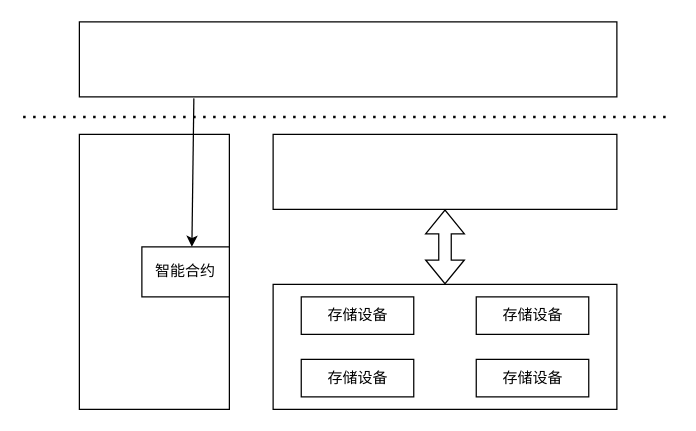
This 696x431 diagram has some shape labels left out. Here are the shapes that lost their labels. From the top down, the box of each, then its label:
(78, 21, 617, 97): 物联网设备
(272, 133, 617, 209): 数据网关
(78, 133, 229, 409): 区块链
